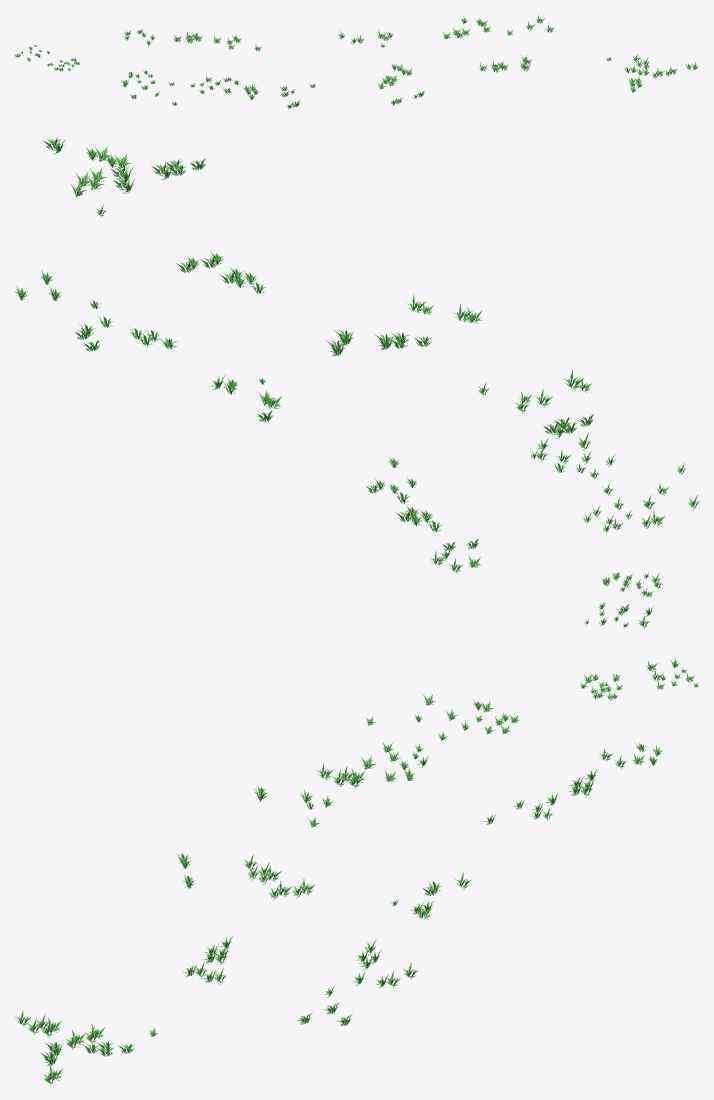
Rendered from Area_12_54.fbx.
3 views of the same model, one above another, from view 1: azimuth 30°, elevation 25°; view 2: azimuth 150°, elevation 25°; view 3: azimuth 270°, elevation 25° (orthographic). The views are drawn at different scales.
Visible parts, largest first — view 1: Area_12_54; view 2: Area_12_54; view 3: Area_12_54.
Boxes of the visible parts, box(x1,y1,x2,y2) form: Area_12_54: box(14, 14, 699, 108); Area_12_54: box(14, 138, 699, 628); Area_12_54: box(15, 658, 699, 1085).
Size of the model in its own units: 6362 by 104 by 4359.
